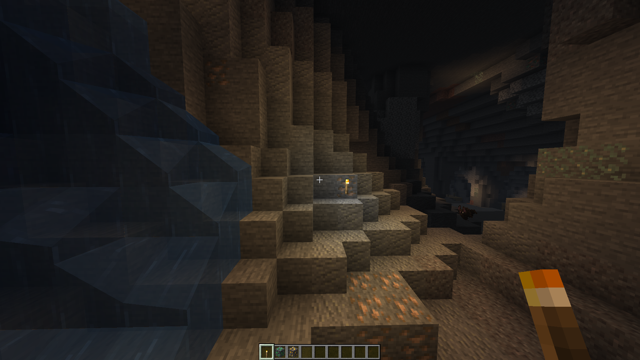iron: (345, 269, 437, 357), (203, 59, 233, 90), (336, 172, 359, 199)
